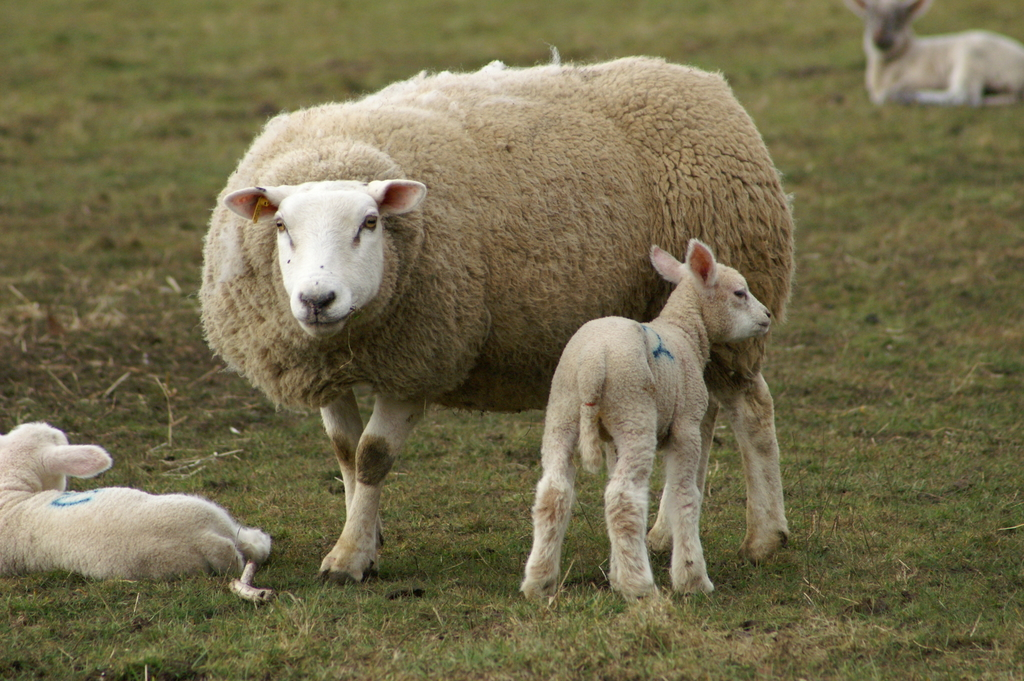sheep: (516, 236, 769, 605)
